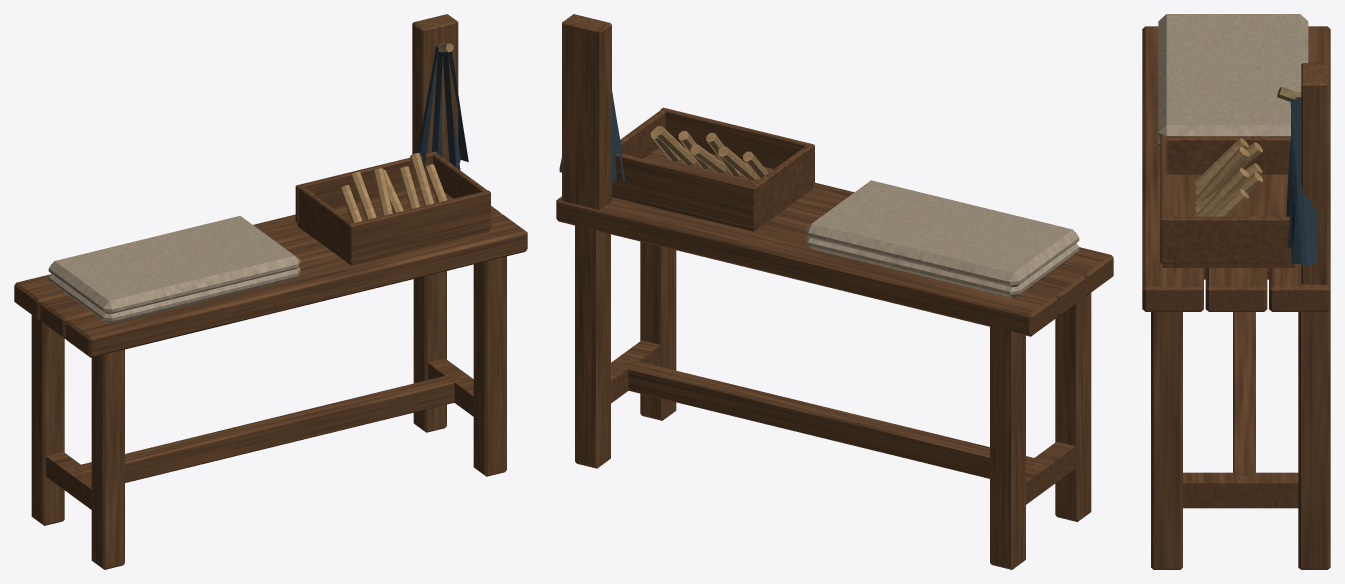
File: TrialMendingBench_LOD0.fbx
3 renders of one model, left to right at view 1: azimuth 30°, elevation 25°; view 2: azimuth 150°, elevation 25°; view 3: azimuth 270°, elevation 25°, orthographic. The views are drawn at different scales.
Parts seen in each view (by area): view 1: TrialMendingBench; view 2: TrialMendingBench; view 3: TrialMendingBench.
Part boxes in pixels (bbox=[...]): TrialMendingBench: bbox=[14, 14, 527, 569]; TrialMendingBench: bbox=[556, 14, 1113, 569]; TrialMendingBench: bbox=[1142, 14, 1330, 569].
Bounding box in the file's own units: 1.41 × 1.23 × 0.422.
Materials: 1 (1 with a texture image).
